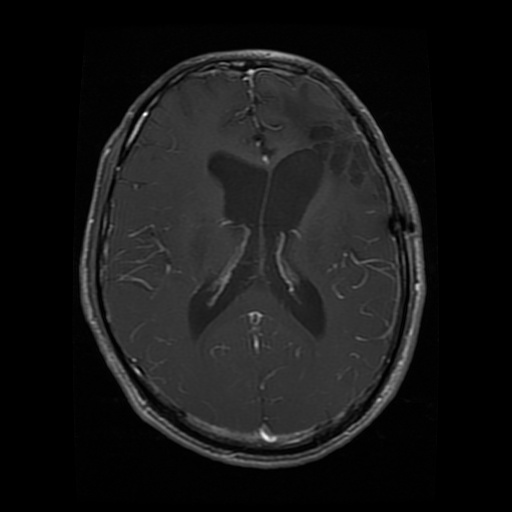glioma: (307, 115, 369, 186)
